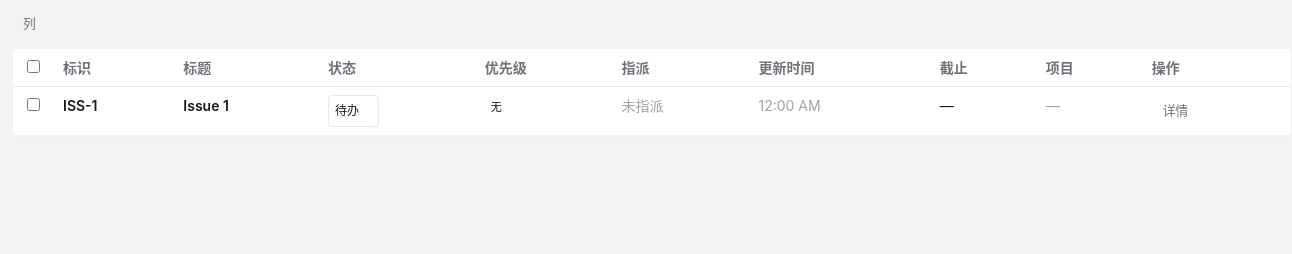
Test: IssueListView 列选择（列表表格二阶） › 隐藏「截止 + 项目」：表头只剩 8 列且不含对应文案
This screenshot has width=1292, height=254.
Step 1. Click the button with test id "issue-list-column-picker" → (29, 24), box left=12, top=8, right=47, bottom=40
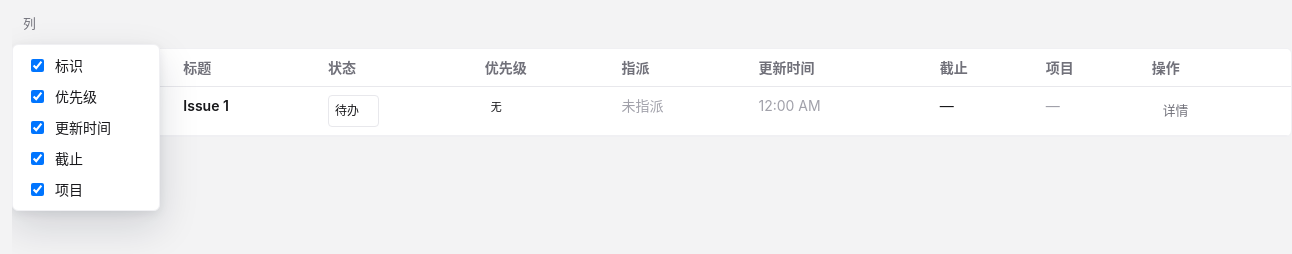
Step 2. Click the checkbox with test id "issue-list-column-opt-dueDate" → (38, 158), box left=31, top=152, right=44, bottom=165
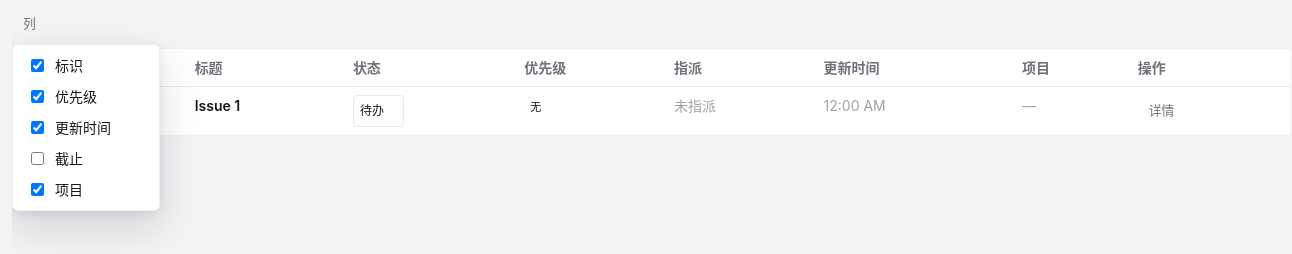
Step 3. Click the checkbox with test id "issue-list-column-opt-project" → (38, 190), box left=31, top=183, right=44, bottom=196
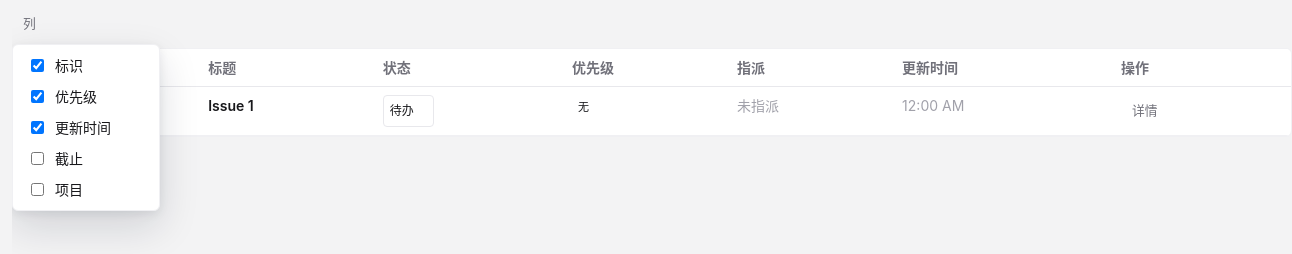
Check: the text "截止" is not shown
Check: the number of column headings is 8
